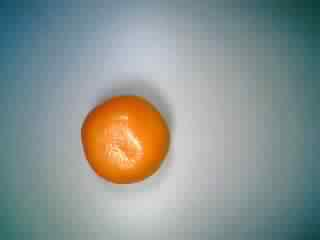orange: (77, 89, 174, 187)
